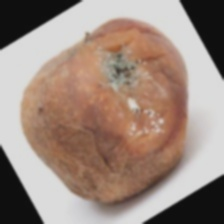apple: (50, 0, 190, 194)
